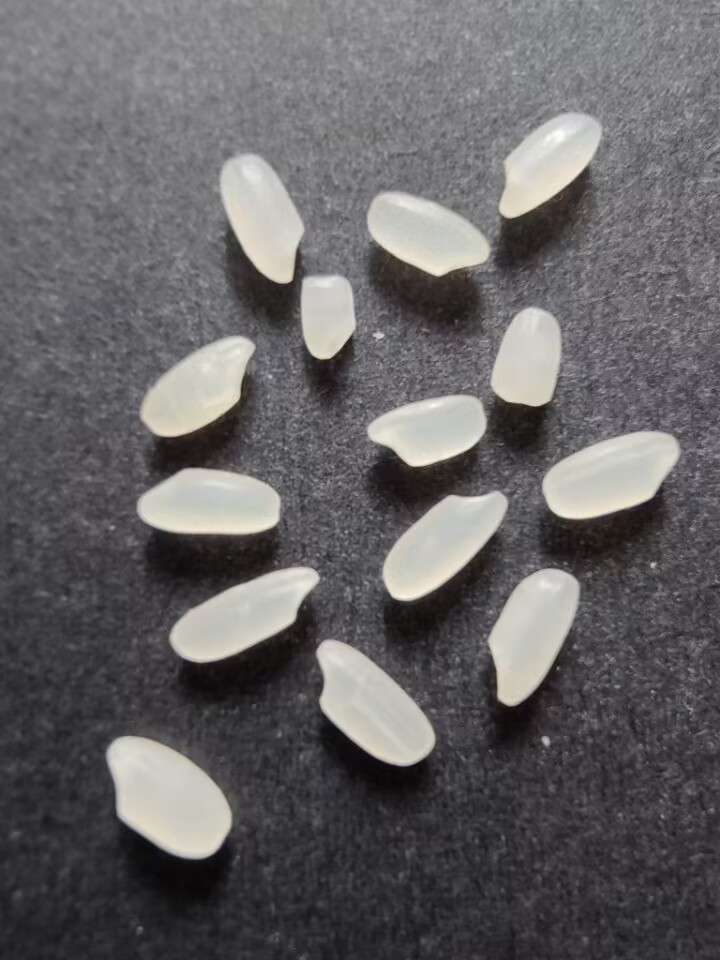broken: (487, 303, 563, 408), (297, 270, 357, 363)
rice: (99, 733, 235, 865), (311, 638, 439, 769), (163, 561, 321, 665), (379, 485, 513, 606), (485, 565, 580, 709), (539, 426, 683, 520), (136, 331, 258, 440), (214, 149, 306, 287), (494, 109, 603, 222), (133, 459, 282, 541), (363, 189, 493, 282), (361, 394, 488, 471)
